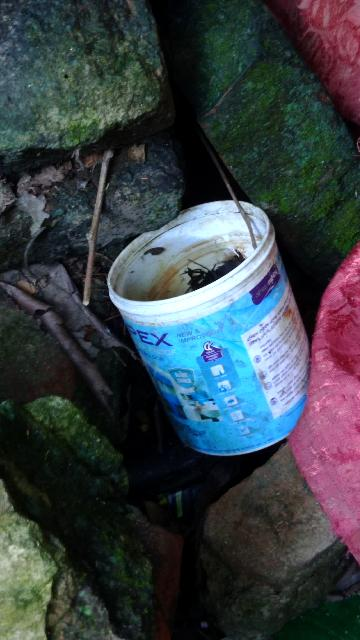hardplastic: (86, 185, 352, 478)
